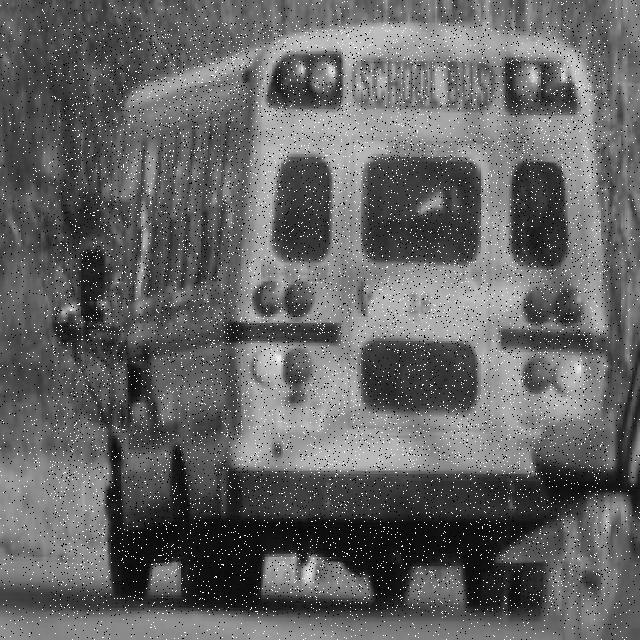Bus- Small: (52, 22, 609, 615)
